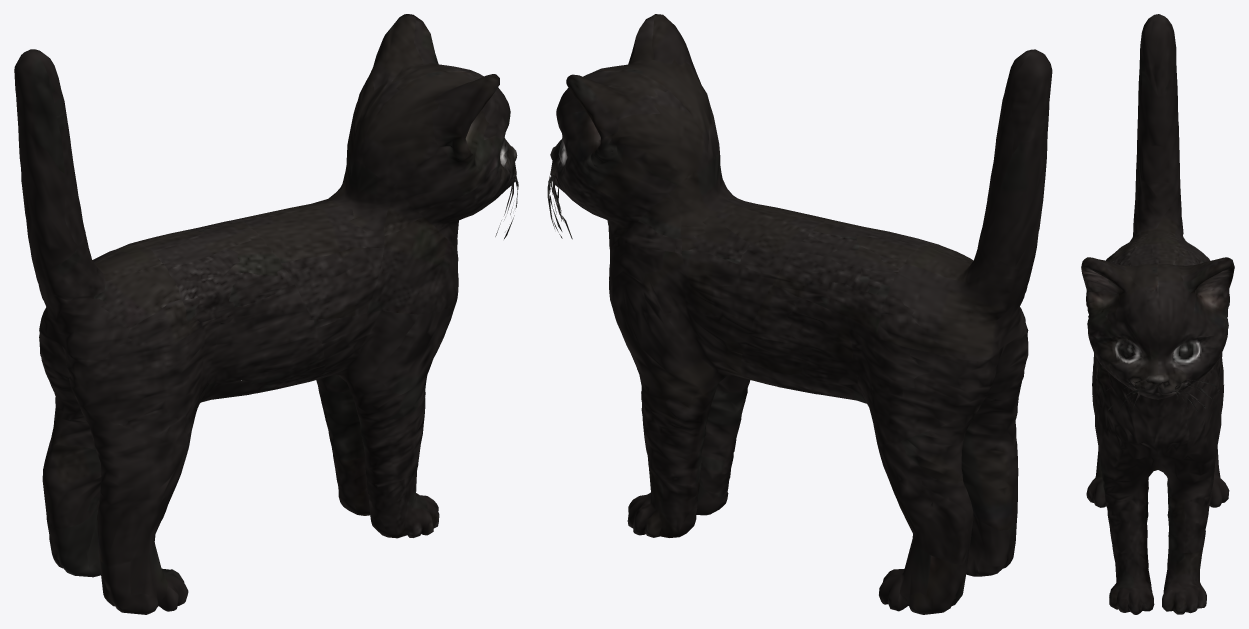
Rendered from BROWANTSIN-lo.glb.
The picture shows the model from 3 angles, left to right: view 1: azimuth 30°, elevation 25°; view 2: azimuth 150°, elevation 25°; view 3: azimuth 270°, elevation 25°; orthographic projection. The views are drawn at different scales.
Visible parts, largest first — view 1: tripo_node_ea8c29a8-05cb-41b4-9cd8-92540f98c491; view 2: tripo_node_ea8c29a8-05cb-41b4-9cd8-92540f98c491; view 3: tripo_node_ea8c29a8-05cb-41b4-9cd8-92540f98c491.
Part boxes in pixels (left/top/right/bottom): tripo_node_ea8c29a8-05cb-41b4-9cd8-92540f98c491: left=14, top=14, right=518, bottom=614; tripo_node_ea8c29a8-05cb-41b4-9cd8-92540f98c491: left=547, top=14, right=1052, bottom=614; tripo_node_ea8c29a8-05cb-41b4-9cd8-92540f98c491: left=1081, top=14, right=1234, bottom=614.
Bounding box in the file's own units: 0.9345 × 0.9997 × 0.3097.
1 material, 1 textured.
